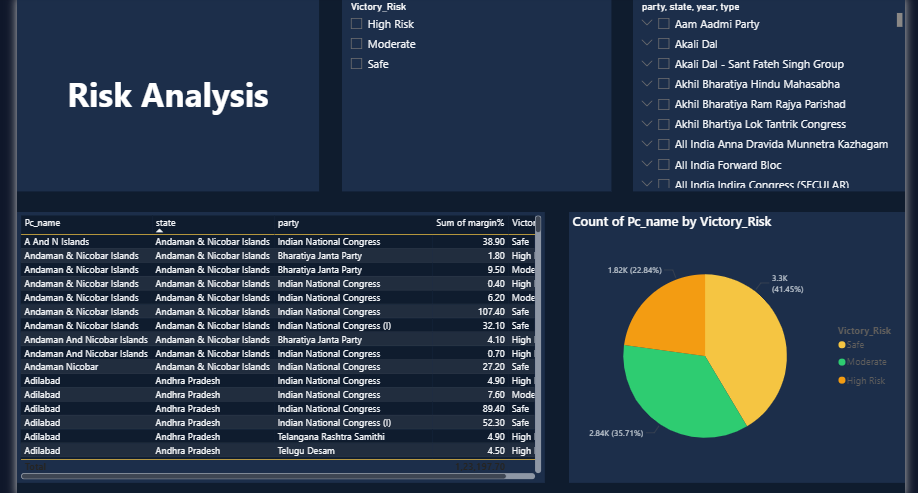

Layout of this report page (visuals, bound fields, positions):
{"tool":"powerbi","page":{"name":"Page 1","canvas":[1280,720],"ordinal":3},"visuals":[{"type":"pieChart","fields":{"Category":["final_processed_election_data.Victory_Risk"],"Y":["CountNonNull(final_processed_election_data.Pc_name)"]},"box":[795,310,485,390],"z":0},{"type":"tableEx","fields":{"Values":["final_processed_election_data.Pc_name","final_processed_election_data.state","final_processed_election_data.party","Sum(final_processed_election_data.margin%)","final_processed_election_data.Victory_Risk"]},"box":[0,310,760,390],"z":1000},{"type":"slicer","fields":{"Values":["final_processed_election_data.Victory_Risk"]},"box":[467.5,0,387.5,280],"z":2000},{"type":"slicer","fields":{"Values":["final_processed_election_data.party","final_processed_election_data.state","final_processed_election_data.year","final_processed_election_data.type"]},"box":[887.5,0,392.5,280],"z":3000},{"type":"textbox","box":[0,0,435,280],"z":4000}]}

Visuals, with their boxes on the page's 1280x720 design canvas (x1, y1, x2, y2). These are canvas units, not pixel positions in the 918x493 screenshot, which may show the page scaled, cropped or inside an application window:
pieChart - final_processed_election_data.Victory_Risk x CountNonNull(final_processed_election_data.Pc_name): bbox=[795, 310, 1280, 700]
tableEx - final_processed_election_data.Pc_name x final_processed_election_data.state: bbox=[0, 310, 760, 700]
slicer - final_processed_election_data.Victory_Risk: bbox=[468, 0, 855, 280]
slicer - final_processed_election_data.party x final_processed_election_data.state: bbox=[888, 0, 1280, 280]
textbox: bbox=[0, 0, 435, 280]
